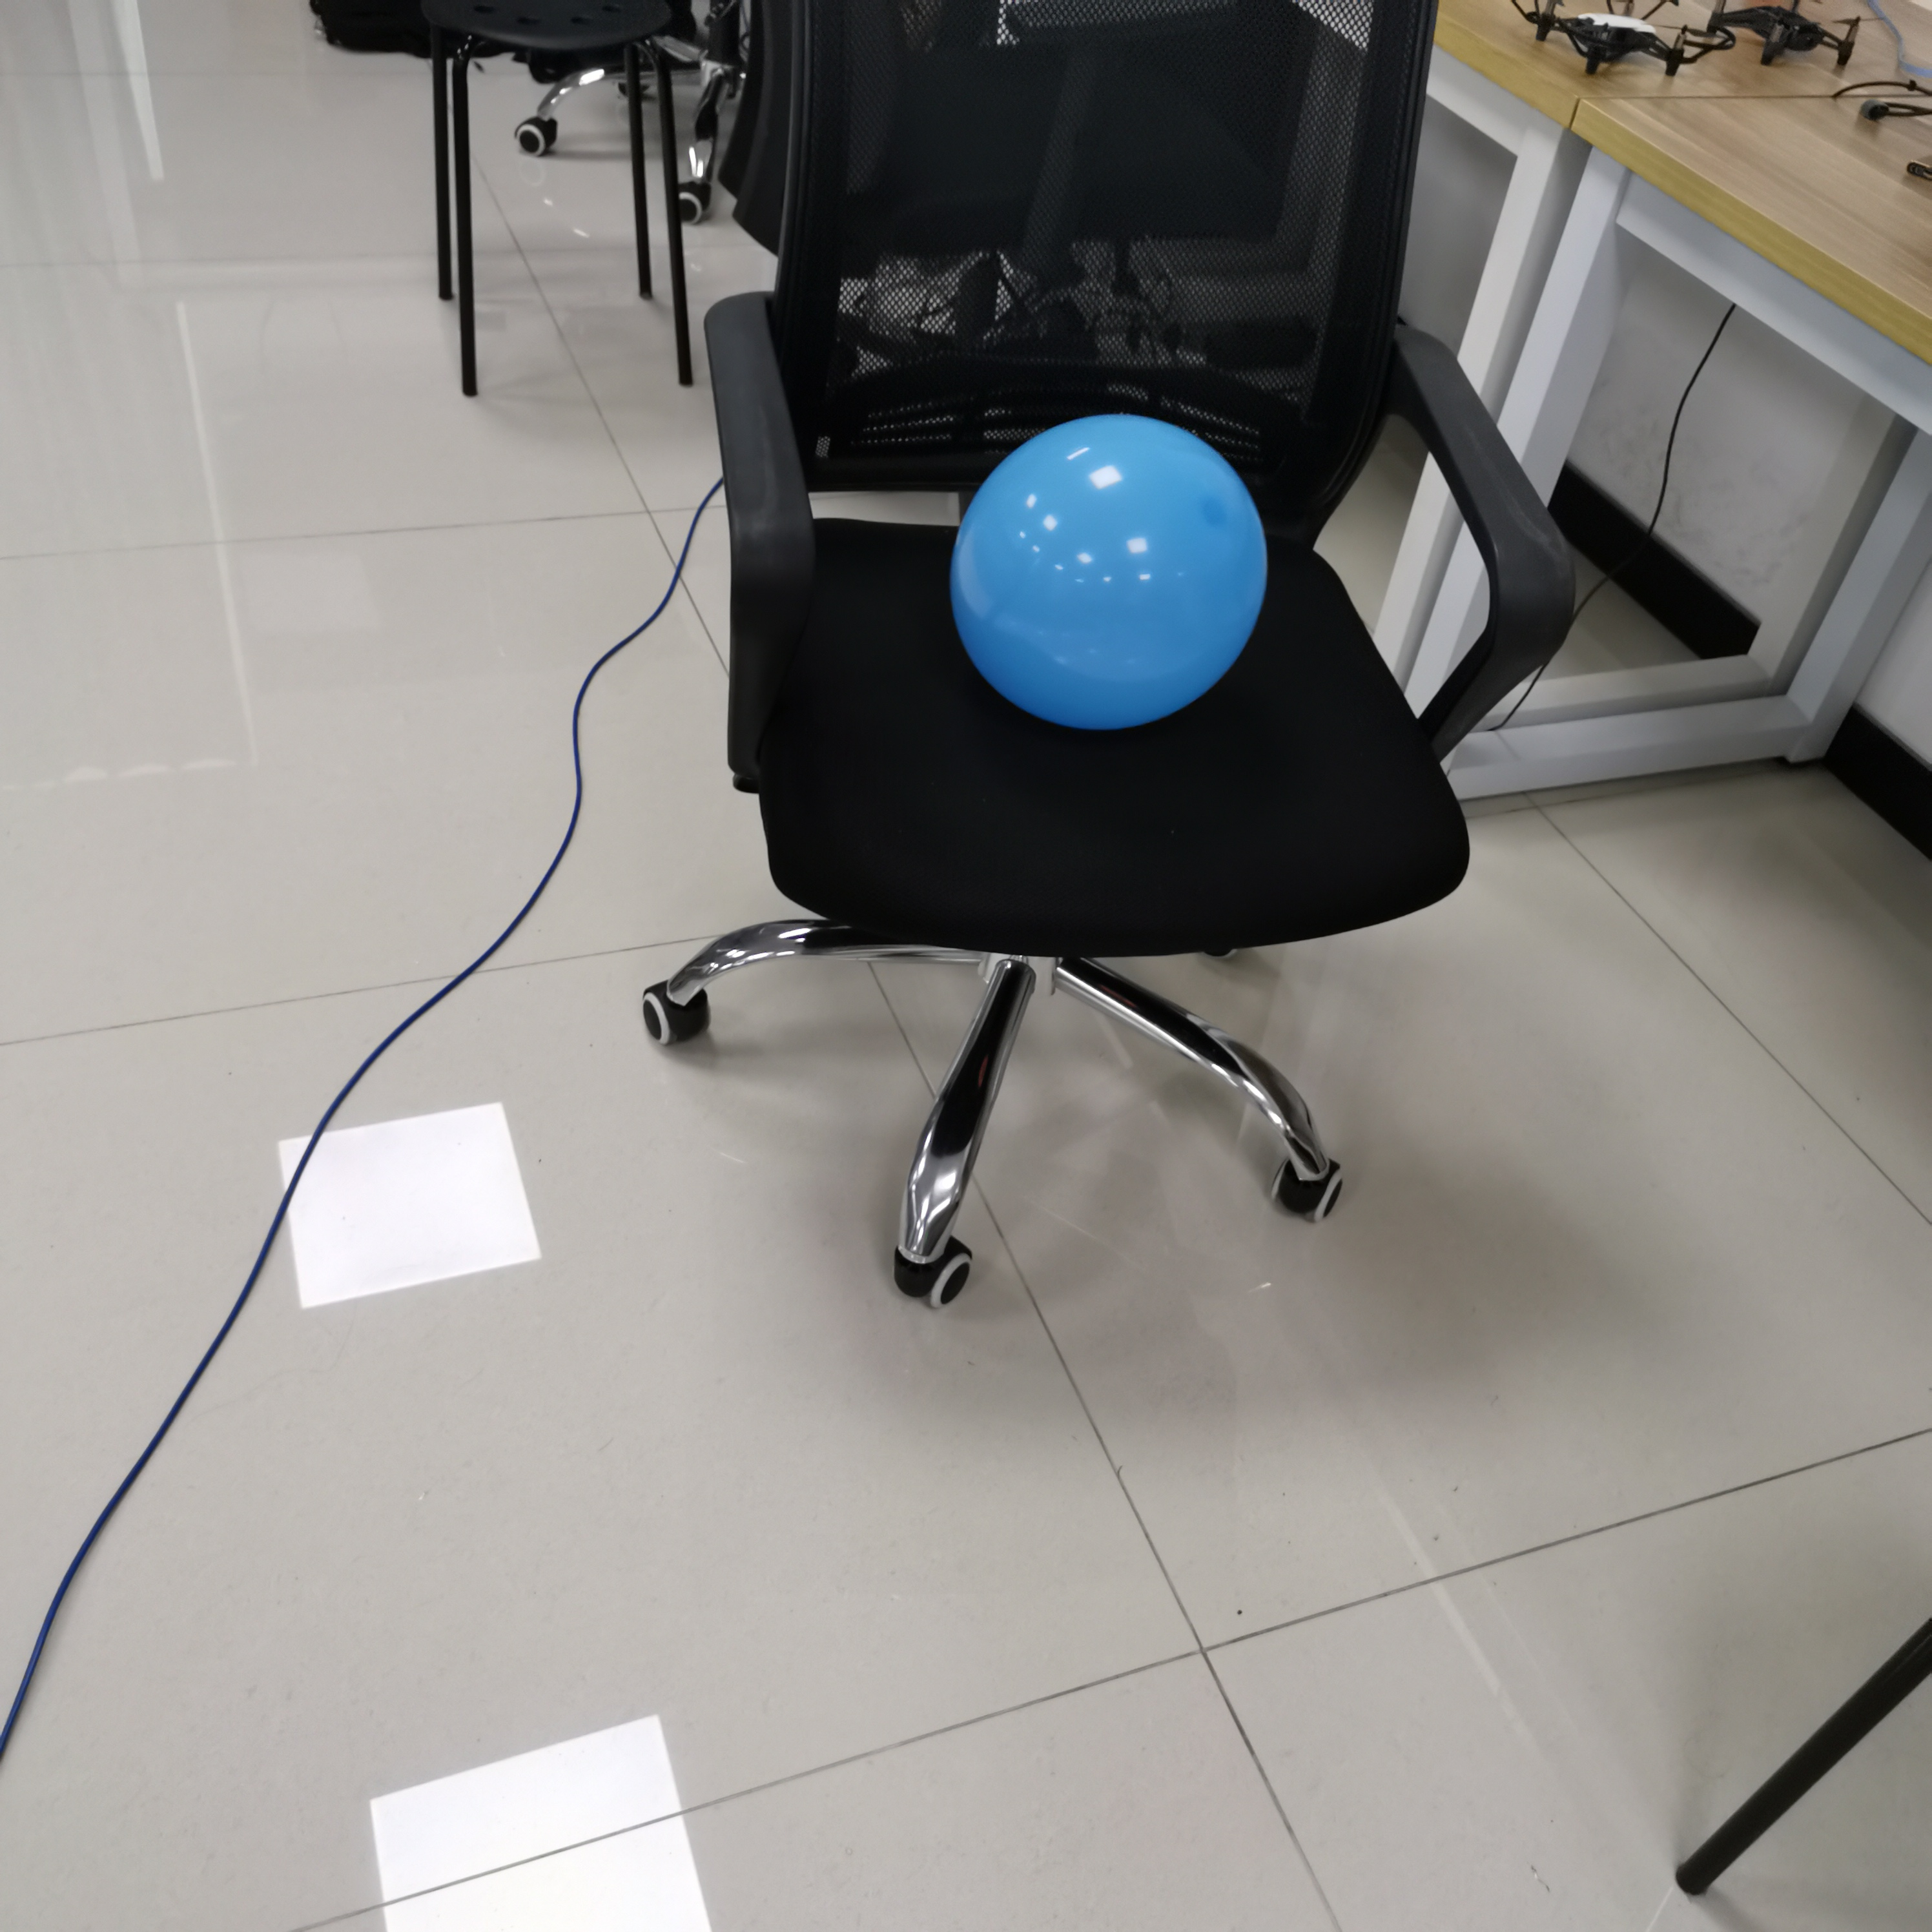balloon: (950, 414, 1265, 734)
